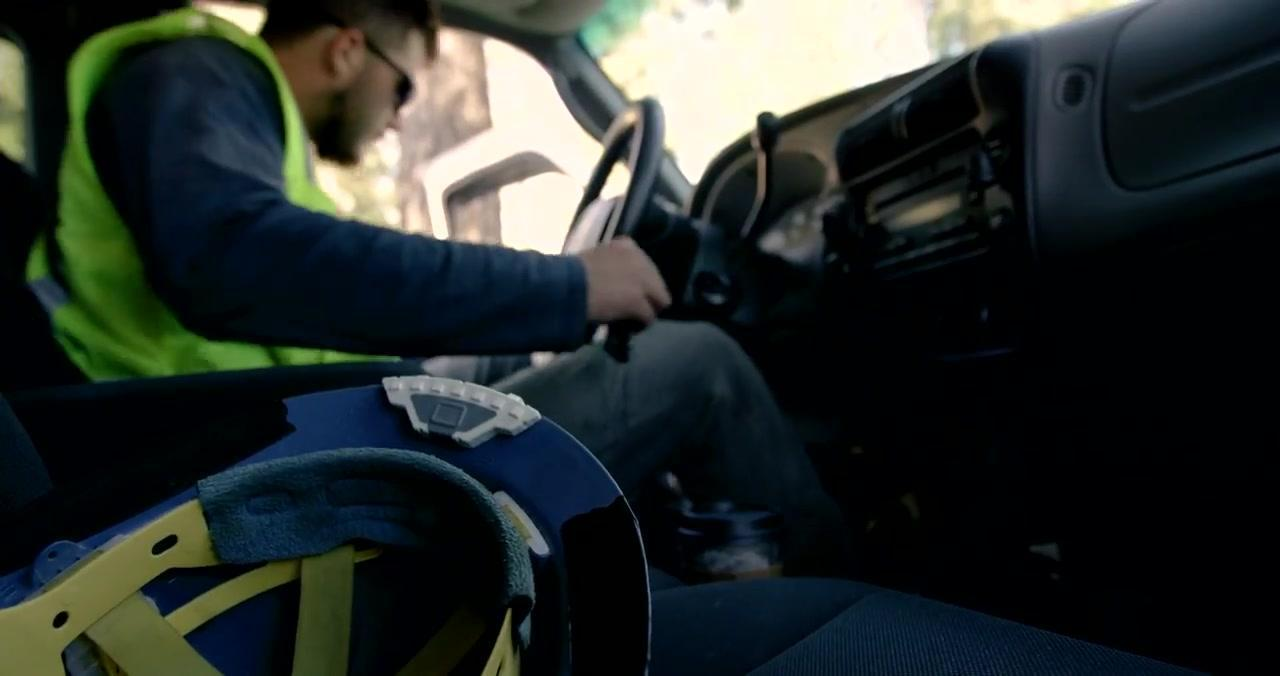vest: (23, 9, 404, 380)
